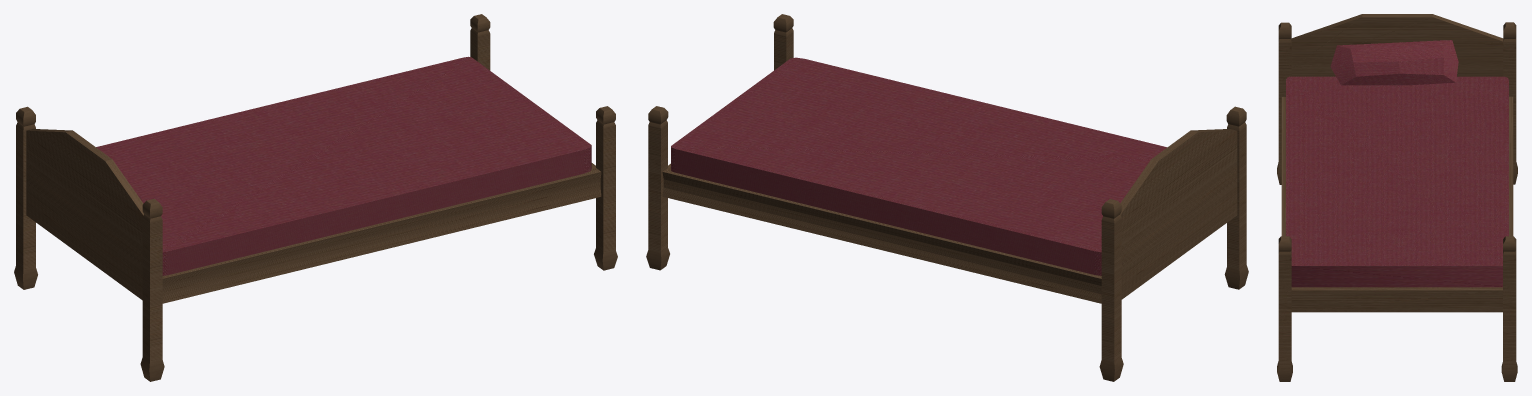
The model's file is bed.fbx.
The picture shows the model from 3 angles, left to right: view 1: azimuth 30°, elevation 25°; view 2: azimuth 150°, elevation 25°; view 3: azimuth 270°, elevation 25°; orthographic projection. The views are drawn at different scales.
Visible parts, largest first — view 1: Cube.007, Cube.005, Cube.006, Cube.004, Cube, Cube.010, Cube.001; view 2: Cube.007, Cube.005, Cube.006, Cube.010, Cube.001, Cube.004, Cube; view 3: Cube.007, Cube.005, Cube.006, Cube.009, Cube.001, Cube, Cube.010, Cube.004.
Part boxes in pixels (x1,y1,x2,y2): Cube.007: [96, 56, 591, 275]; Cube.005: [26, 129, 143, 300]; Cube.006: [162, 163, 601, 303]; Cube.004: [140, 199, 164, 381]; Cube: [594, 106, 617, 270]; Cube.010: [14, 106, 37, 289]; Cube.001: [470, 14, 490, 70]; Cube.007: [671, 57, 1166, 275]; Cube.005: [1120, 129, 1237, 299]; Cube.006: [662, 163, 1101, 303]; Cube.010: [1099, 199, 1123, 381]; Cube.001: [646, 106, 669, 270]; Cube.004: [1224, 106, 1248, 289]; Cube: [773, 14, 793, 70]; Cube.007: [1286, 76, 1508, 287]; Cube.005: [1291, 14, 1503, 76]; Cube.006: [1281, 96, 1513, 312]; Cube.009: [1330, 40, 1458, 85]; Cube.001: [1501, 236, 1517, 381]; Cube: [1277, 236, 1292, 381]; Cube.010: [1503, 22, 1517, 184]; Cube.004: [1277, 22, 1291, 184].
Size of the model in its own units: 3951 by 1503 by 1964.
3 materials, 3 textured.
